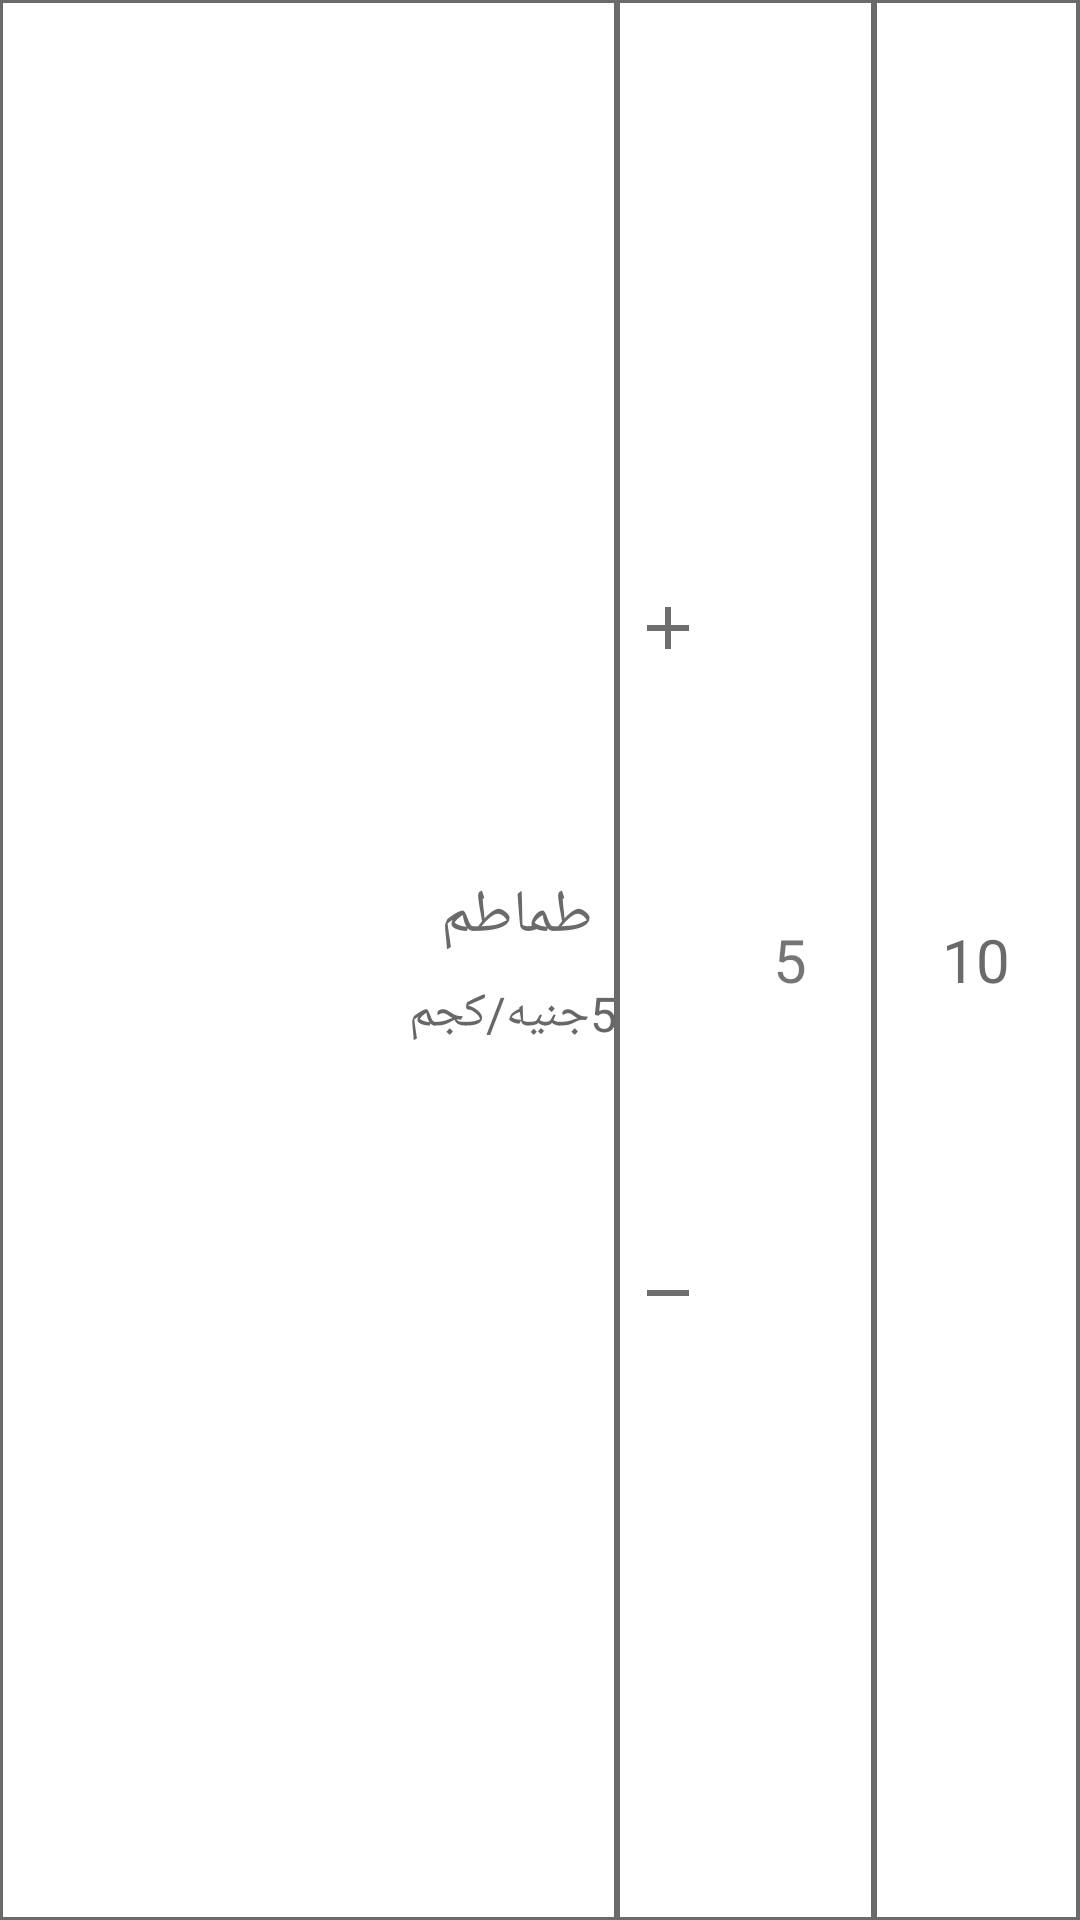

Point at icon controls on the screen. Image size 1080px x 1920px, points as point (x, y).
increment: point (668, 628)
